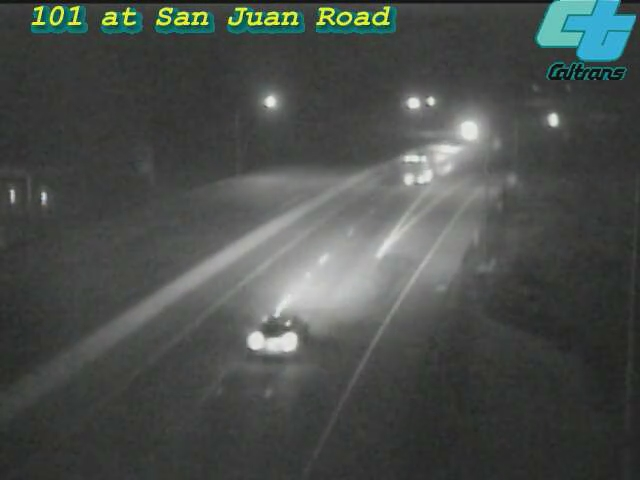vehicle: (222, 281, 332, 391), (372, 129, 452, 209), (446, 104, 496, 154), (529, 97, 579, 147), (423, 123, 473, 173), (407, 129, 457, 179)
